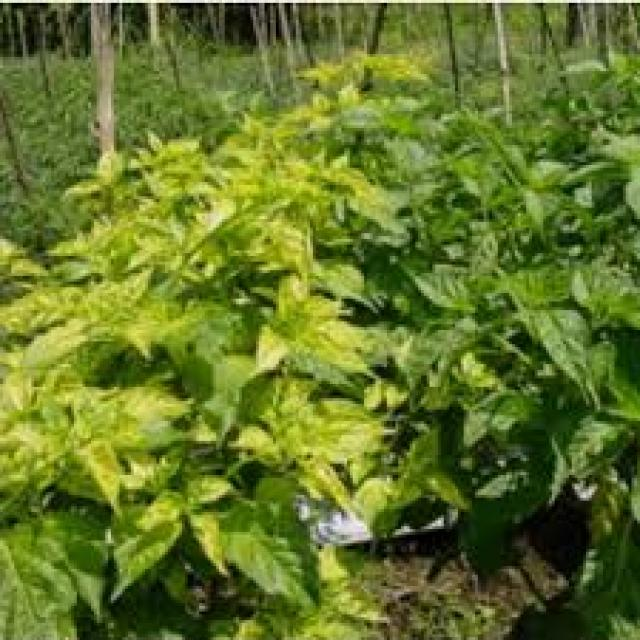Nutirtion_deficie: (32, 258, 218, 384), (122, 466, 255, 596), (544, 416, 640, 566), (530, 100, 640, 220), (66, 133, 166, 218)
